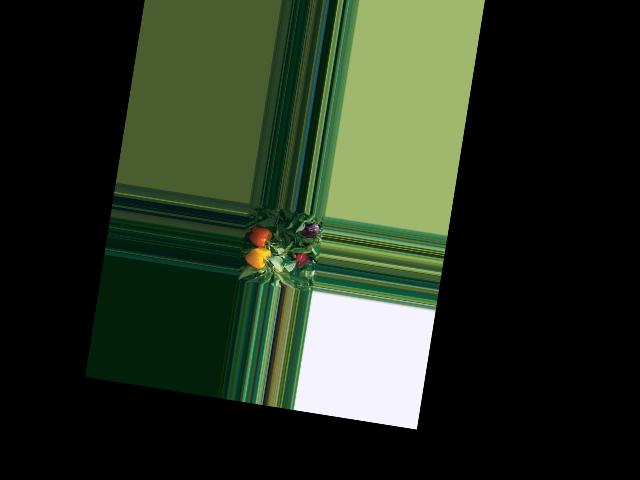bell_pepper: (244, 240, 273, 270)
